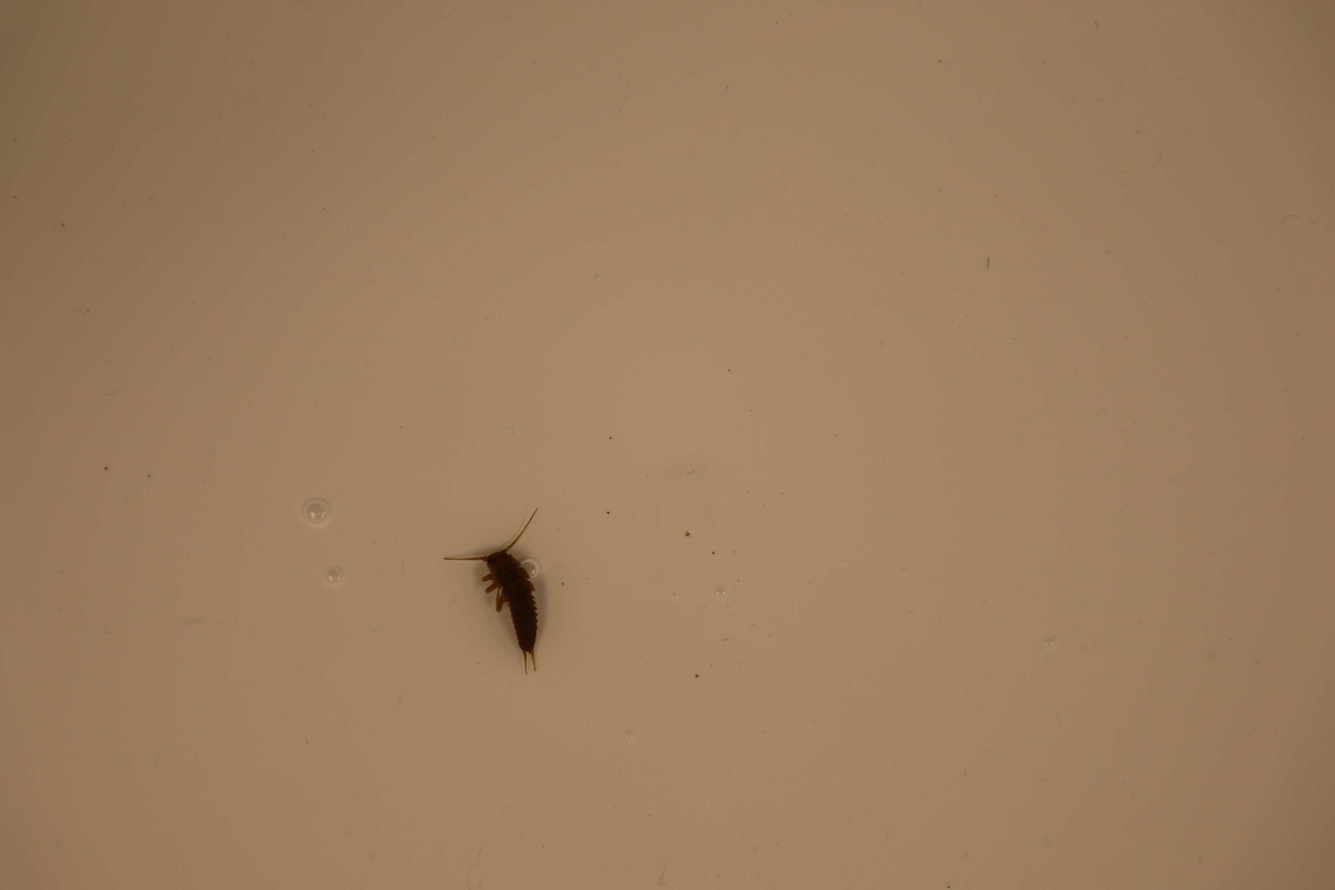Stonefly: (446, 505, 556, 674)
